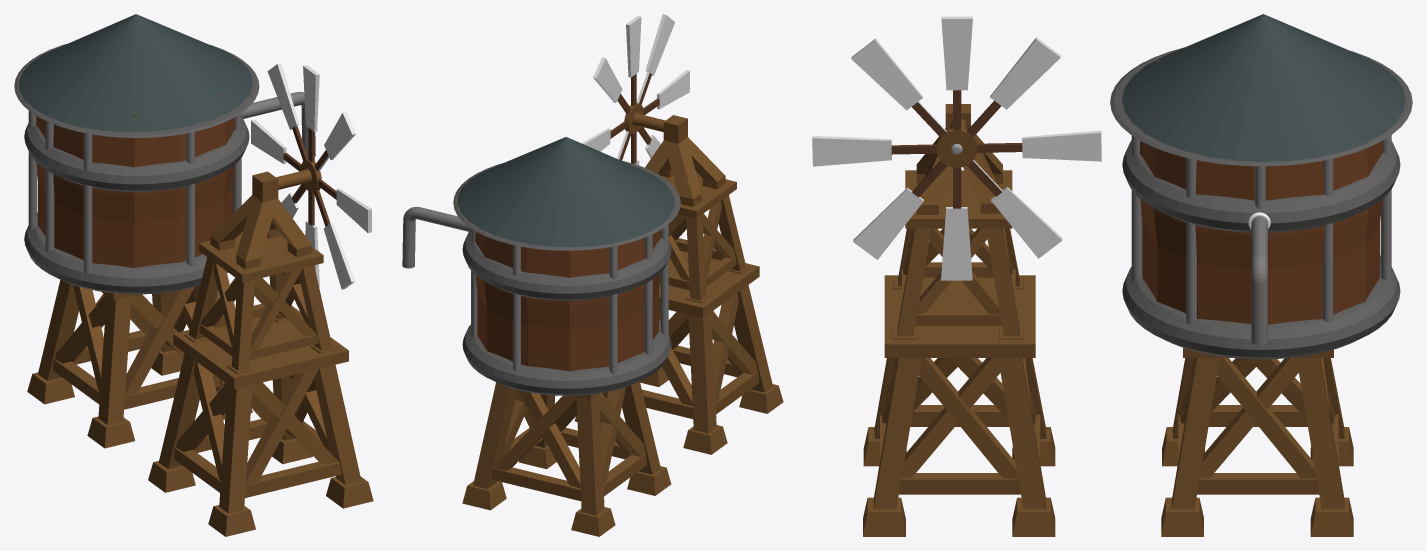
File: p_windmill.glb
The picture shows the model from 3 angles, left to right: view 1: azimuth 30°, elevation 25°; view 2: azimuth 150°, elevation 25°; view 3: azimuth 270°, elevation 25°; orthographic projection. The views are drawn at different scales.
Visible parts, largest first — view 1: Cube.001, Cone, Cube.021, Cube, Torus, Cylinder, Cylinder.004; view 2: Cube.001, Cube, Cone, Cube.021, Torus, Cylinder, Cylinder.004; view 3: Cube.001, Cone, Cube.021, Cube, Torus, Cylinder, Cylinder.004.
Part boxes in pixels (x1,y1,x2,y2): Cube.001: [148, 63, 373, 536]; Cone: [19, 14, 252, 132]; Cube.021: [36, 93, 235, 267]; Cube: [27, 272, 252, 448]; Torus: [14, 43, 259, 294]; Cylinder: [28, 111, 241, 273]; Cylinder.004: [241, 91, 315, 156]; Cube.001: [574, 14, 783, 454]; Cube: [462, 381, 671, 536]; Cone: [457, 137, 674, 247]; Cube.021: [475, 172, 661, 371]; Torus: [453, 160, 680, 395]; Cylinder: [471, 224, 668, 374]; Cylinder.004: [402, 207, 470, 268]; Cube.001: [812, 16, 1101, 536]; Cone: [1122, 14, 1405, 161]; Cube.021: [1139, 59, 1382, 324]; Cube: [1161, 348, 1353, 536]; Torus: [1110, 47, 1412, 359]; Cylinder: [1131, 135, 1391, 324]; Cylinder.004: [1251, 217, 1267, 345].
Size of the model in its own units: 5.39 by 7.44 by 8.02.
